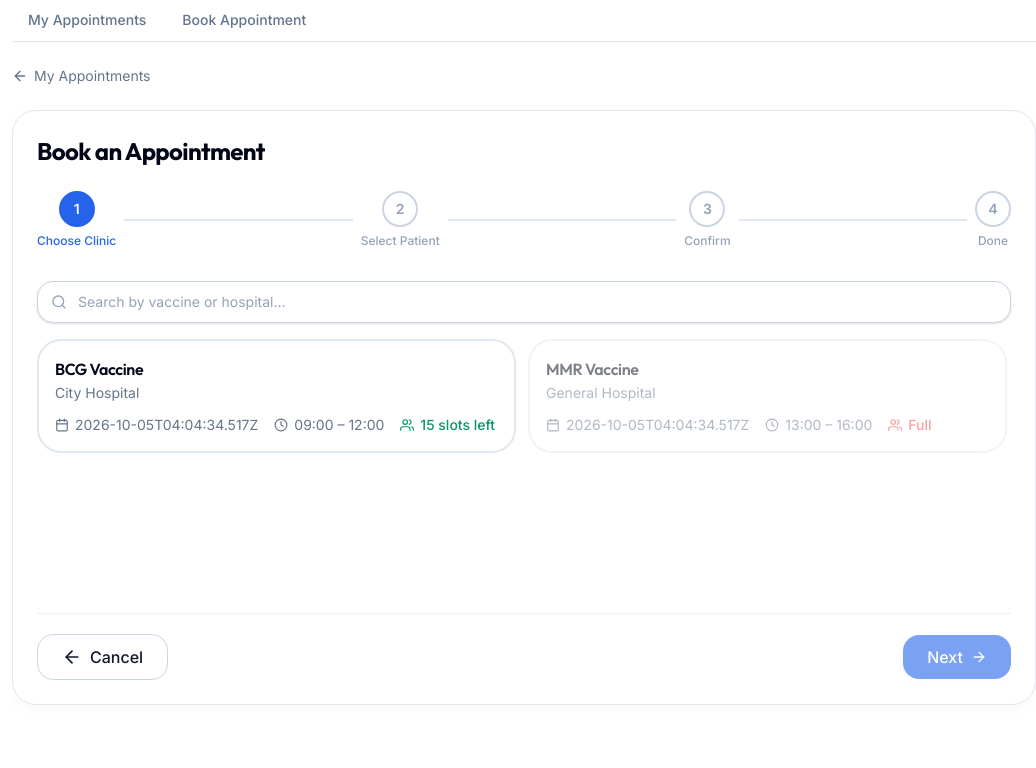
Scenario: BookAppointmentPage › advances to step 2 (Select Patient) after clicking Next
Check: the heading "BCG Vaccine" is shown, box [55,359,143,379]
Click the button "BCG Vaccine" at (99, 369), box [37,339,516,453]
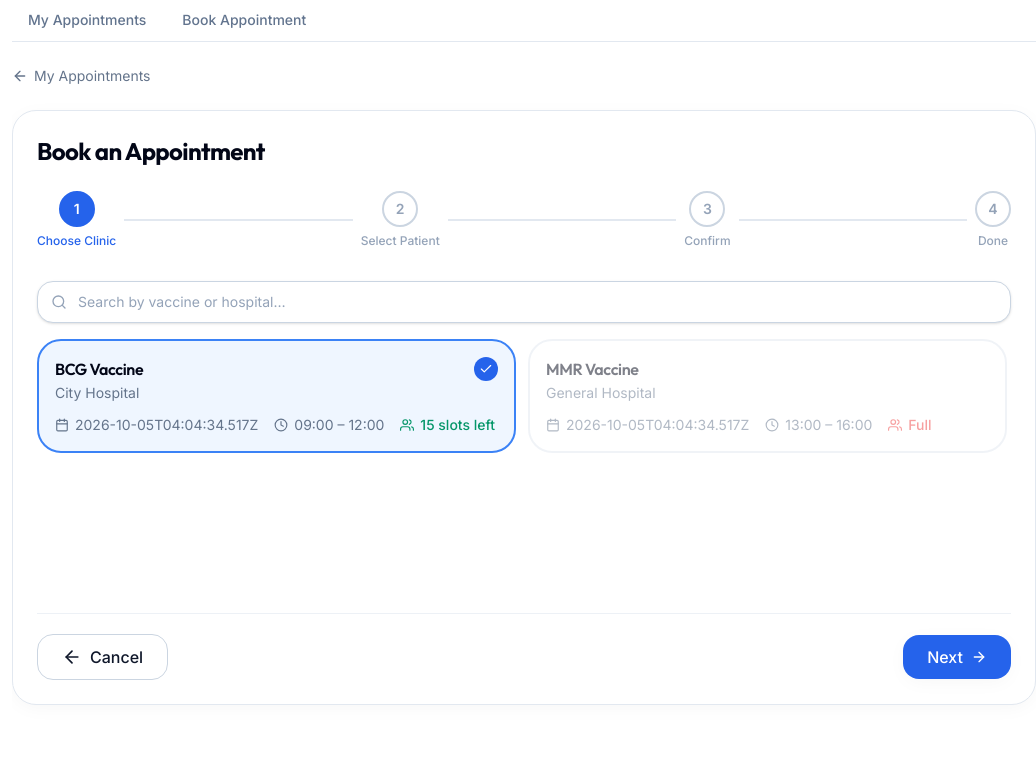
Click the button "Next" at (957, 657), box [903,635,1011,679]
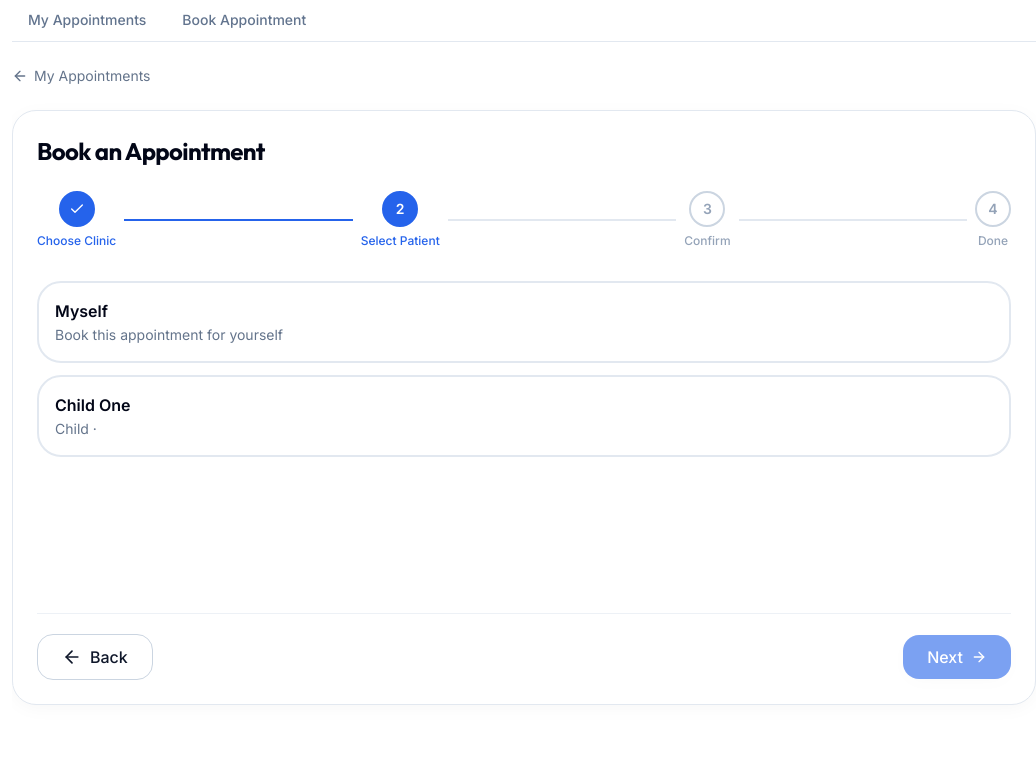
Check: the text "Select Patient" is shown, box [361,233,440,249]
Check: the text "Myself" is shown, box [55,301,108,321]
